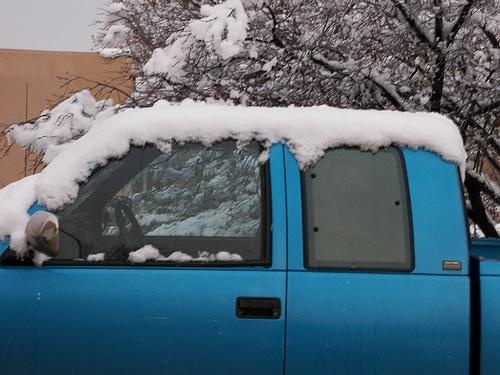car: (1, 107, 499, 375)
